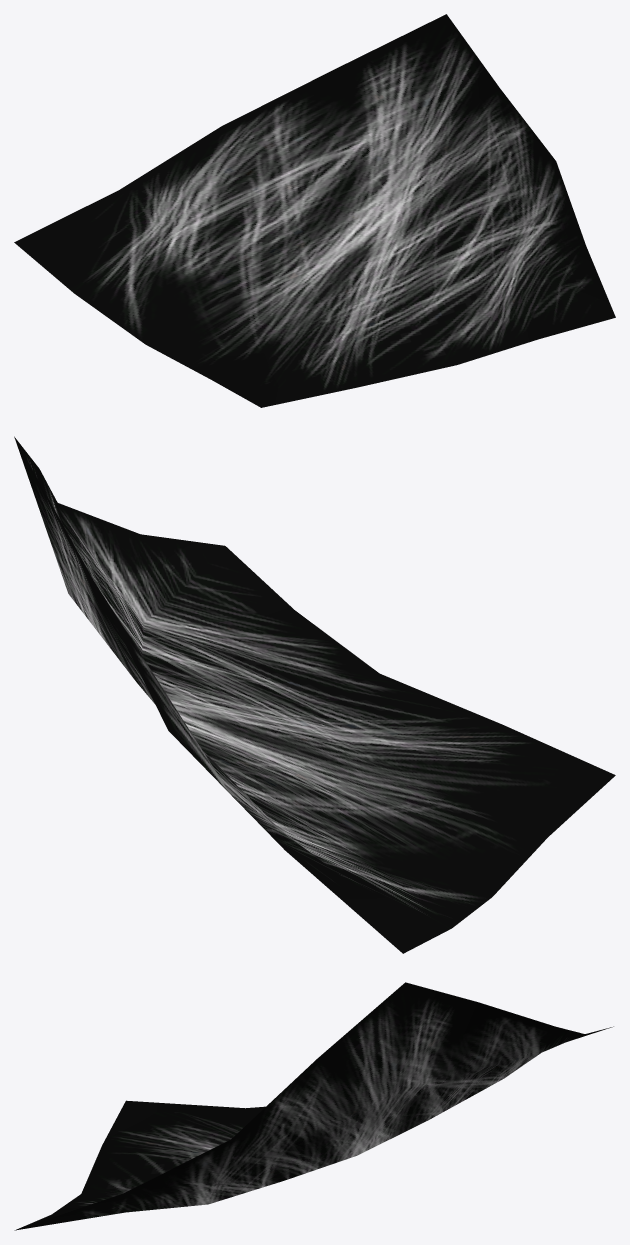
The model's file is SWORDLIGHT20_PS-AREA01_CORNERWEB07.fbx.
3 renders of one model, top to bottom at view 1: azimuth 30°, elevation 25°; view 2: azimuth 150°, elevation 25°; view 3: azimuth 270°, elevation 25°, orthographic. The views are drawn at different scales.
Visible parts, largest first — view 1: SWORDLIGHT20_PS-AREA01_CORNERWEB07; view 2: SWORDLIGHT20_PS-AREA01_CORNERWEB07; view 3: SWORDLIGHT20_PS-AREA01_CORNERWEB07.
Boxes of the visible parts, x1,y1,x2,y2 form: SWORDLIGHT20_PS-AREA01_CORNERWEB07: [14, 14, 615, 407]; SWORDLIGHT20_PS-AREA01_CORNERWEB07: [14, 436, 615, 953]; SWORDLIGHT20_PS-AREA01_CORNERWEB07: [14, 982, 613, 1230].
Size of the model in its own units: 70631 by 42815 by 75799.
1 material, 1 textured.
